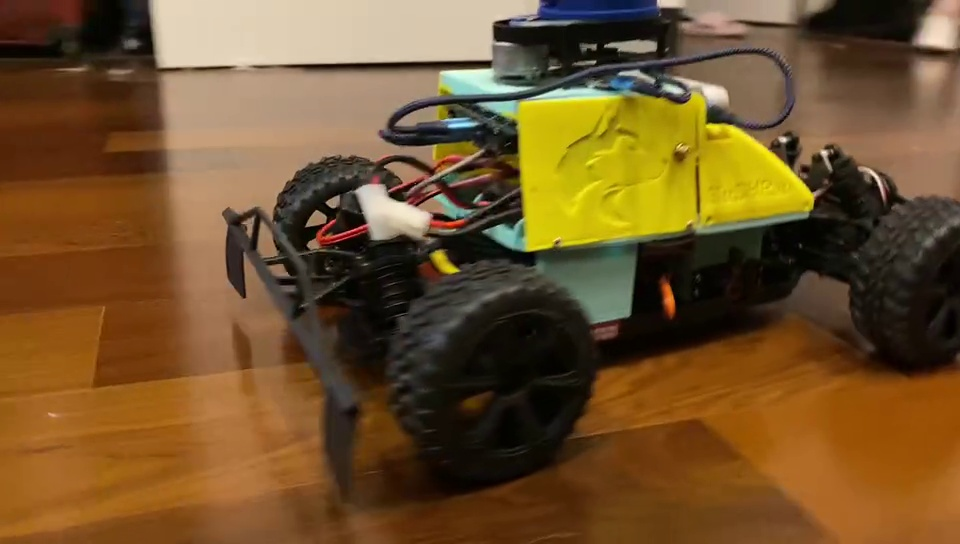mushr_car: (210, 1, 960, 489)
